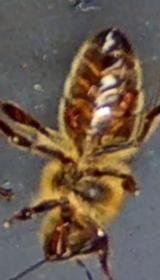varroa_mite: (52, 90, 93, 138), (108, 77, 146, 114)
